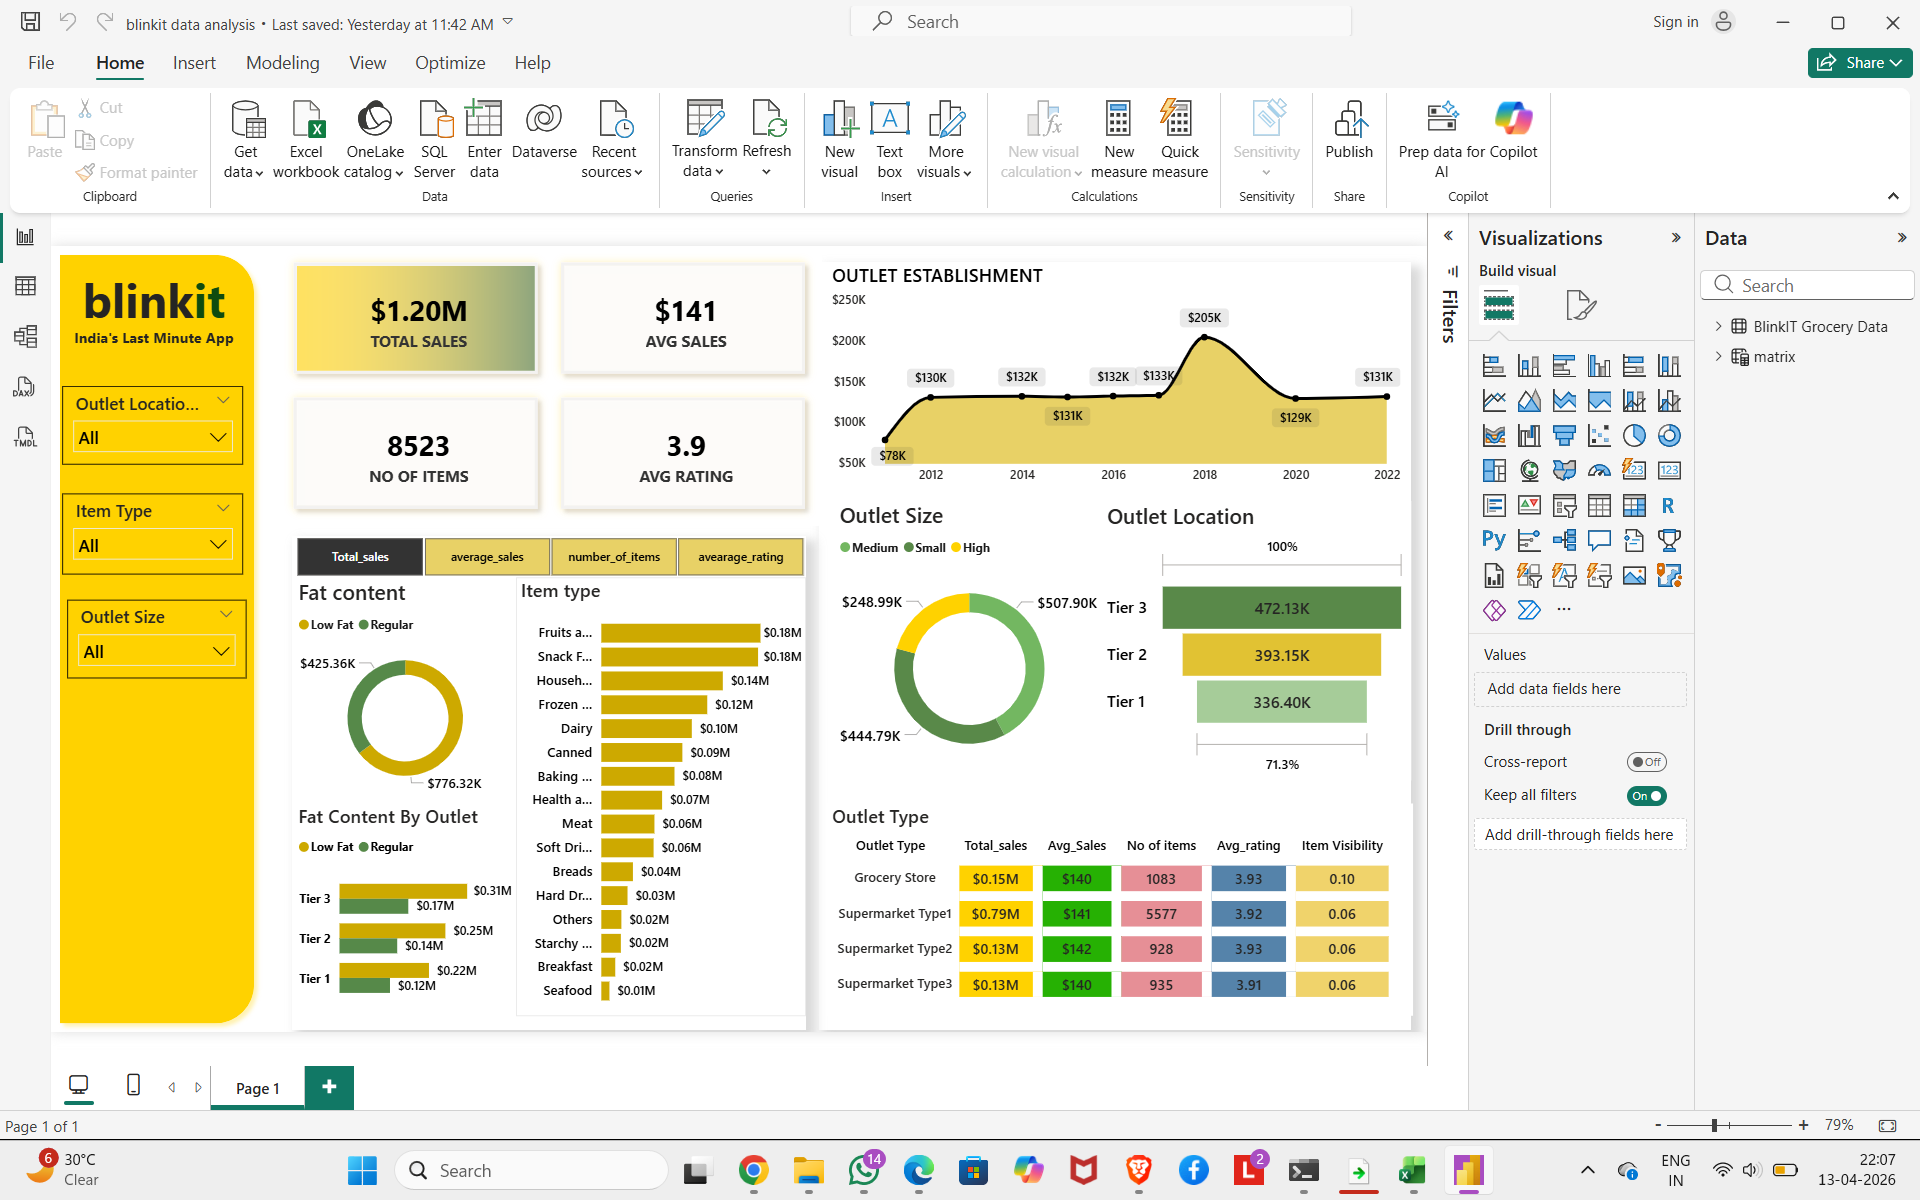

Layout of this report page (visuals, bound fields, positions):
{"tool":"powerbi","page":{"name":"Page 1","canvas":[1400,800],"ordinal":0},"visuals":[{"type":"shape","box":[0,0,215.7,800],"z":0},{"type":"shape","box":[781.4,17.1,602.9,781.4],"z":1000},{"type":"shape","box":[245.5,295.1,522.7,502.4],"z":2000},{"type":"textbox","box":[12.9,17.1,184.3,82.9],"z":3000},{"type":"textbox","box":[12.9,77.1,184.3,44.3],"z":4000},{"type":"cardVisual","fields":{"Data":["BlinkIT Grocery Data.Total_sales","BlinkIT Grocery Data.average_sales","BlinkIT Grocery Data.number_of_items","BlinkIT Grocery Data.avearage_rating"]},"box":[230.2,0,554.5,284.9],"z":5000},{"type":"donutChart","title":"Fat content","fields":{"Y":["BlinkIT Grocery Data.Total_sales"],"Category":["BlinkIT Grocery Data.Item Fat Content"]},"box":[246.7,337,227.7,230.2],"z":6000},{"type":"slicer","fields":{"Values":["matrix.matrix"]},"box":[230.2,295.1,554.5,42],"z":7000},{"type":"clusteredBarChart","title":"Fat Content By Outlet","fields":{"Y":["BlinkIT Grocery Data.Total_sales"],"Category":["BlinkIT Grocery Data.Outlet Location Type"],"Series":["BlinkIT Grocery Data.Item Fat Content"]},"box":[247.1,567.1,227.1,215.7],"z":8000},{"type":"barChart","title":"Item type","fields":{"Y":["BlinkIT Grocery Data.Total_sales"],"Category":["BlinkIT Grocery Data.Item Type"]},"box":[472.9,337.1,295.7,445.7],"z":9000},{"type":"lineChart","title":"OUTLET ESTABLISHMENT","fields":{"Y":["BlinkIT Grocery Data.Total_sales"],"Category":["BlinkIT Grocery Data.Outlet Establishment Year"]},"box":[790,17.1,588.6,234.3],"z":10000},{"type":"donutChart","title":"Outlet Size","fields":{"Y":["BlinkIT Grocery Data.Total_sales"],"Category":["BlinkIT Grocery Data.Outlet Size"]},"box":[797.1,258.6,274.3,287.1],"z":11000},{"type":"funnel","title":"Outlet Location","fields":{"Y":["Sum(BlinkIT Grocery Data.Sales)"],"Category":["BlinkIT Grocery Data.Outlet Location Type"]},"box":[1070,260,314.3,284.3],"z":12000},{"type":"pivotTable","title":"Outlet Type ","fields":{"Values":["BlinkIT Grocery Data.Total_sales","BlinkIT Grocery Data.average_sales","BlinkIT Grocery Data.number_of_items","BlinkIT Grocery Data.avearage_rating","Avg(BlinkIT Grocery Data.Item Visibility)"],"Rows":["BlinkIT Grocery Data.Outlet Type"]},"box":[790,567.1,595.7,215.7],"z":13000},{"type":"slicer","fields":{"Values":["BlinkIT Grocery Data.Item Type"]},"box":[12,252,184,82],"z":14000},{"type":"slicer","fields":{"Values":["BlinkIT Grocery Data.Outlet Size"]},"box":[16,360,182,80],"z":15000},{"type":"slicer","fields":{"Values":["BlinkIT Grocery Data.Outlet Location Type"]},"box":[12,142,184,80],"z":16000}]}

Visuals, with their boxes on the page's 1400x800 design canvas (x1, y1, x2, y2). These are canvas units, not pixel positions in the 1920x1200 screenshot, which may show the page scaled, cropped or inside an application window:
shape: l=0, t=0, r=216, b=800
shape: l=781, t=17, r=1384, b=798
shape: l=246, t=295, r=768, b=798
textbox: l=13, t=17, r=197, b=100
textbox: l=13, t=77, r=197, b=121
cardVisual - BlinkIT Grocery Data.Total_sales x BlinkIT Grocery Data.average_sales: l=230, t=0, r=785, b=285
"Fat content" donutChart: l=247, t=337, r=474, b=567
slicer - matrix.matrix: l=230, t=295, r=785, b=337
"Fat Content By Outlet" clusteredBarChart: l=247, t=567, r=474, b=783
"Item type" barChart: l=473, t=337, r=769, b=783
"OUTLET ESTABLISHMENT" lineChart: l=790, t=17, r=1379, b=251
"Outlet Size" donutChart: l=797, t=259, r=1071, b=546
"Outlet Location" funnel: l=1070, t=260, r=1384, b=544
"Outlet Type " pivotTable: l=790, t=567, r=1386, b=783
slicer - BlinkIT Grocery Data.Item Type: l=12, t=252, r=196, b=334
slicer - BlinkIT Grocery Data.Outlet Size: l=16, t=360, r=198, b=440
slicer - BlinkIT Grocery Data.Outlet Location Type: l=12, t=142, r=196, b=222
